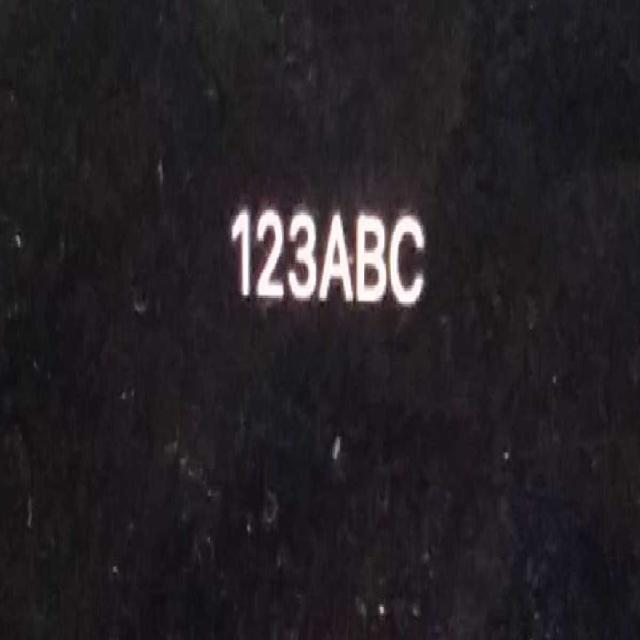license_plate: (224, 196, 429, 316)
